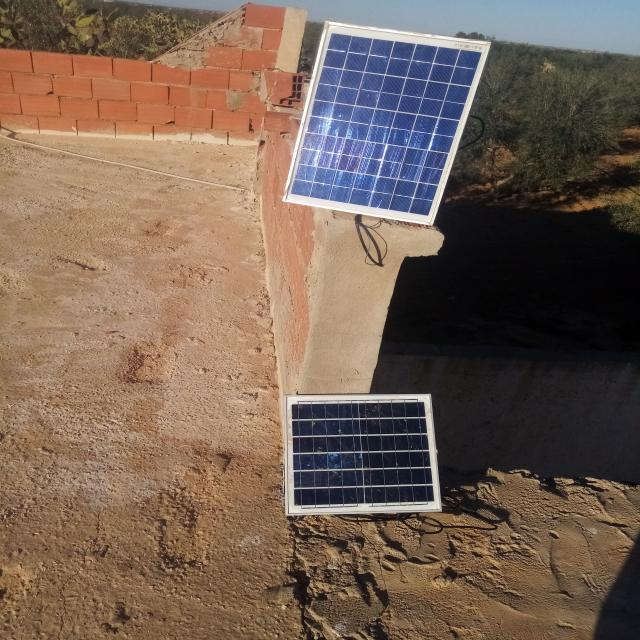faulty: (285, 394, 441, 515)
no faulty: (284, 23, 492, 226)
